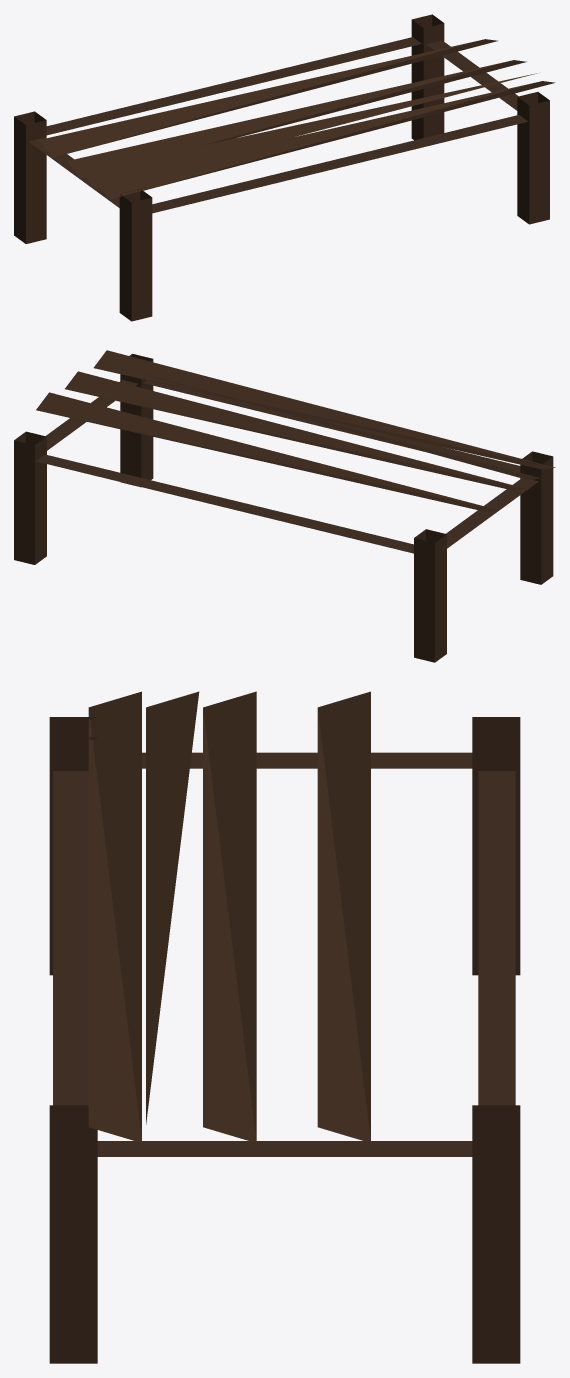
The model's file is bay-lounge-table.lod2.glb.
The picture shows the model from 3 angles, top to bottom: view 1: azimuth 30°, elevation 25°; view 2: azimuth 150°, elevation 25°; view 3: azimuth 270°, elevation 25°; orthographic projection. The views are drawn at different scales.
Parts seen in each view (by area): view 1: LoungeTable_ProcessedWoodSmoothDark_0; view 2: LoungeTable_ProcessedWoodSmoothDark_0; view 3: LoungeTable_ProcessedWoodSmoothDark_0.
Boxes of the visible parts, x1,y1,x2,y2 form: LoungeTable_ProcessedWoodSmoothDark_0: [14, 14, 555, 321]; LoungeTable_ProcessedWoodSmoothDark_0: [14, 350, 555, 662]; LoungeTable_ProcessedWoodSmoothDark_0: [49, 691, 520, 1363].
Bounding box in the file's own units: 1.2 × 0.323 × 0.5476.
